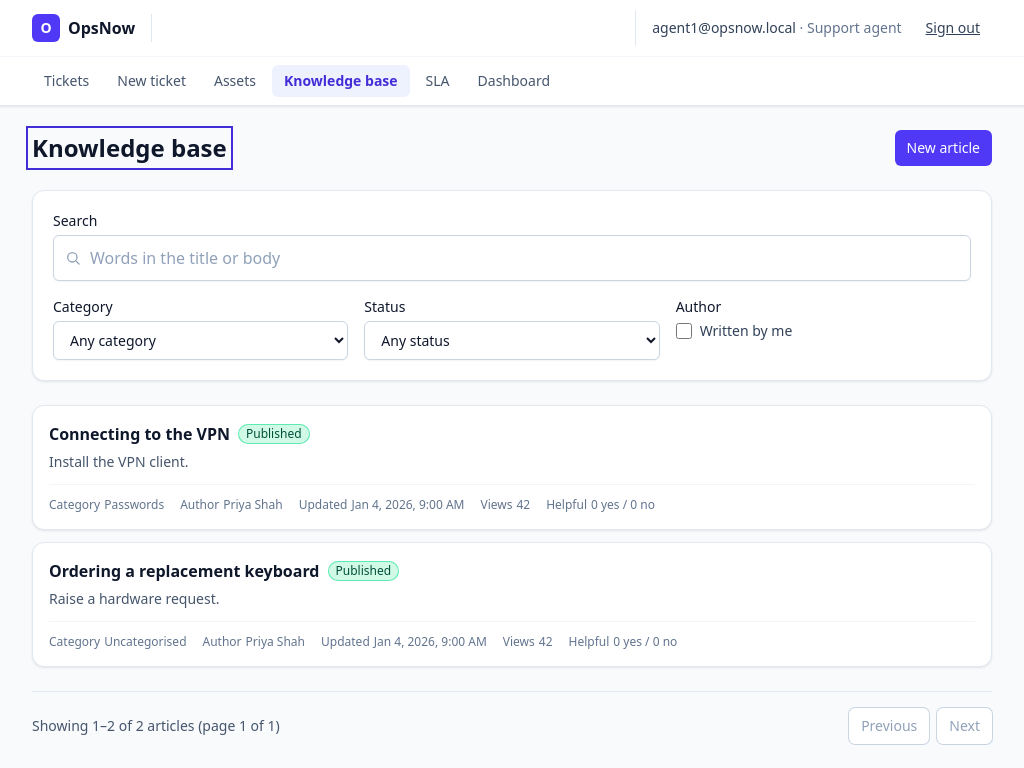
article list — filtering › narrows the list by category
The image size is (1024, 768).
Expected: the heading "Knowledge base" is shown, [32, 132, 227, 164]
Select "Passwords" in the dropdown labelled "Category". click: [201, 340]
box: [53, 321, 348, 360]
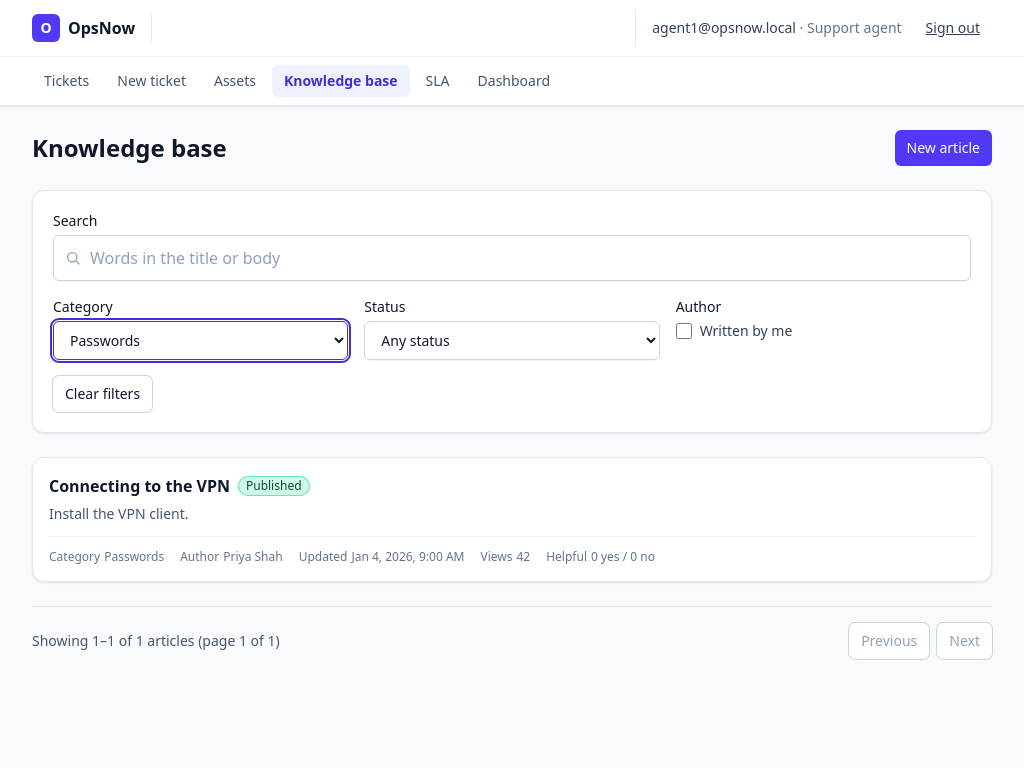
Expected: the link "Connecting to the VPN" is shown, [49, 474, 230, 498]
Now the link "Ordering a replacement keyboard" is gone
